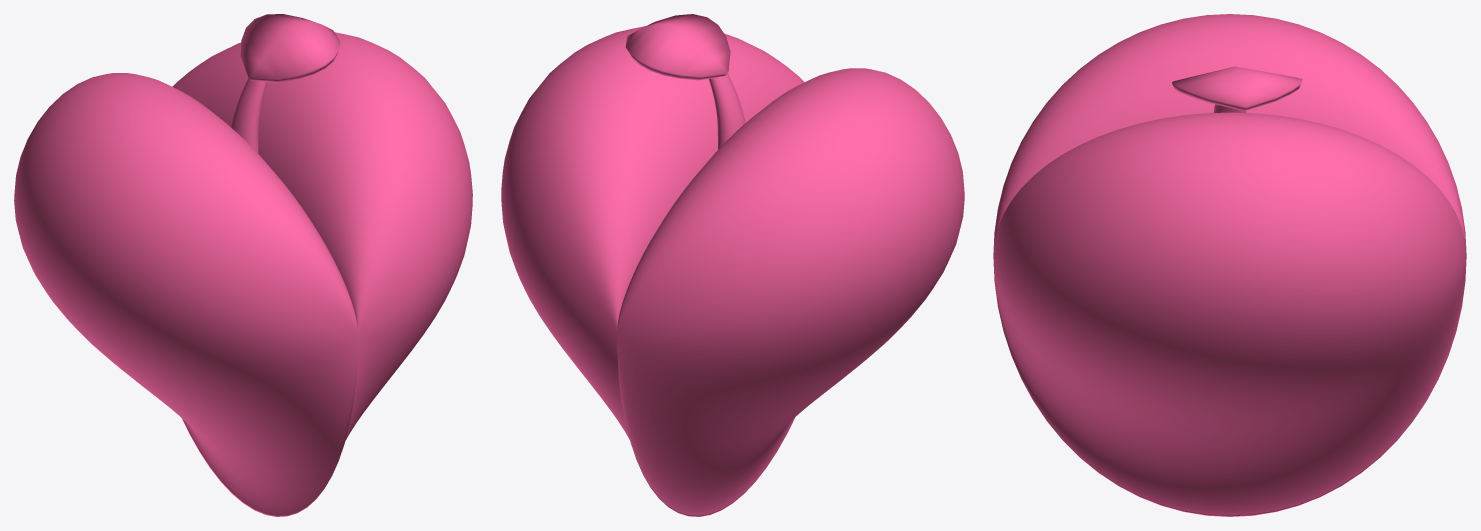
The model's file is Obedience.fbx.
3 renders of one model, left to right at view 1: azimuth 30°, elevation 25°; view 2: azimuth 150°, elevation 25°; view 3: azimuth 270°, elevation 25°, orthographic. The views are drawn at different scales.
Parts seen in each view (by area): view 1: Obedience Fruit; view 2: Obedience Fruit; view 3: Obedience Fruit.
Part boxes in pixels (bbox=[...]): Obedience Fruit: bbox=[14, 14, 472, 516]; Obedience Fruit: bbox=[501, 14, 964, 516]; Obedience Fruit: bbox=[993, 14, 1466, 516].
Bounding box in the file's own units: 90 × 100 × 90.
